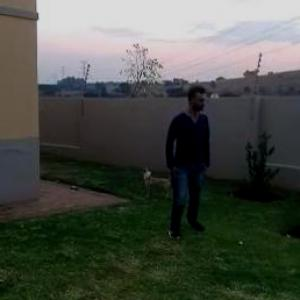follow: (160, 81, 213, 243)
